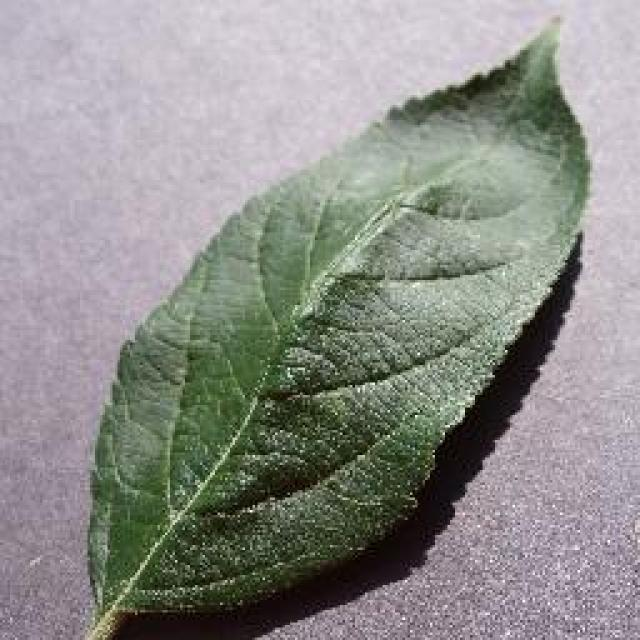apple healthy: (70, 10, 592, 638)
